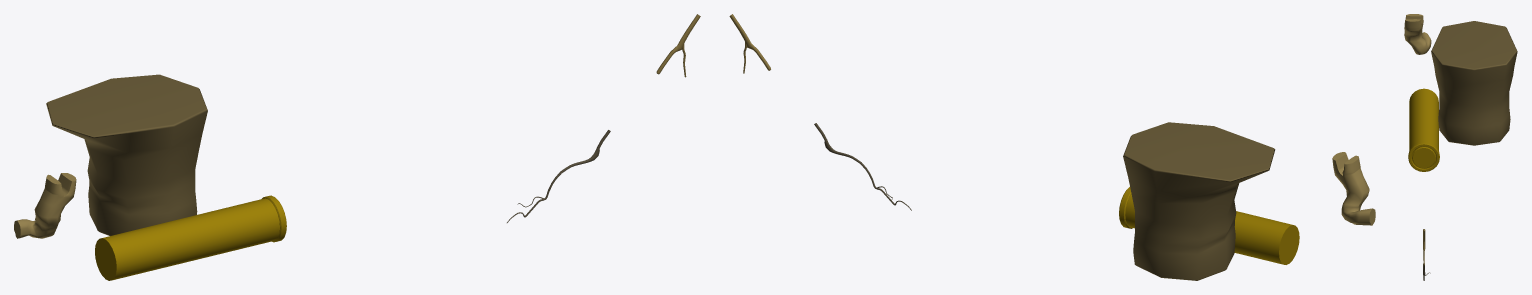
Rendered from Trees_Branches.fbx.
3 renders of one model, left to right at view 1: azimuth 30°, elevation 25°; view 2: azimuth 150°, elevation 25°; view 3: azimuth 270°, elevation 25°, orthographic. The views are drawn at different scales.
Visible parts, largest first — view 1: Trunk, Log, BigBranch, Twig, SmallBranch; view 2: Trunk, Log, BigBranch, Twig; view 3: Trunk, Log, BigBranch, SmallBranch.
Boxes of the visible parts, x1,y1,x2,y2 form: Trunk: [46, 74, 207, 235]; Log: [95, 195, 286, 280]; BigBranch: [14, 173, 76, 238]; Twig: [507, 130, 610, 222]; SmallBranch: [656, 14, 700, 77]; Trunk: [1123, 122, 1275, 280]; Log: [1119, 187, 1299, 264]; BigBranch: [1332, 152, 1375, 225]; Twig: [814, 123, 911, 210]; Trunk: [1431, 21, 1517, 145]; Log: [1408, 88, 1439, 171]; BigBranch: [1404, 14, 1431, 54]; SmallBranch: [1423, 229, 1425, 265].
Bounding box in the file's own units: 66.24 × 16.18 × 14.1.
